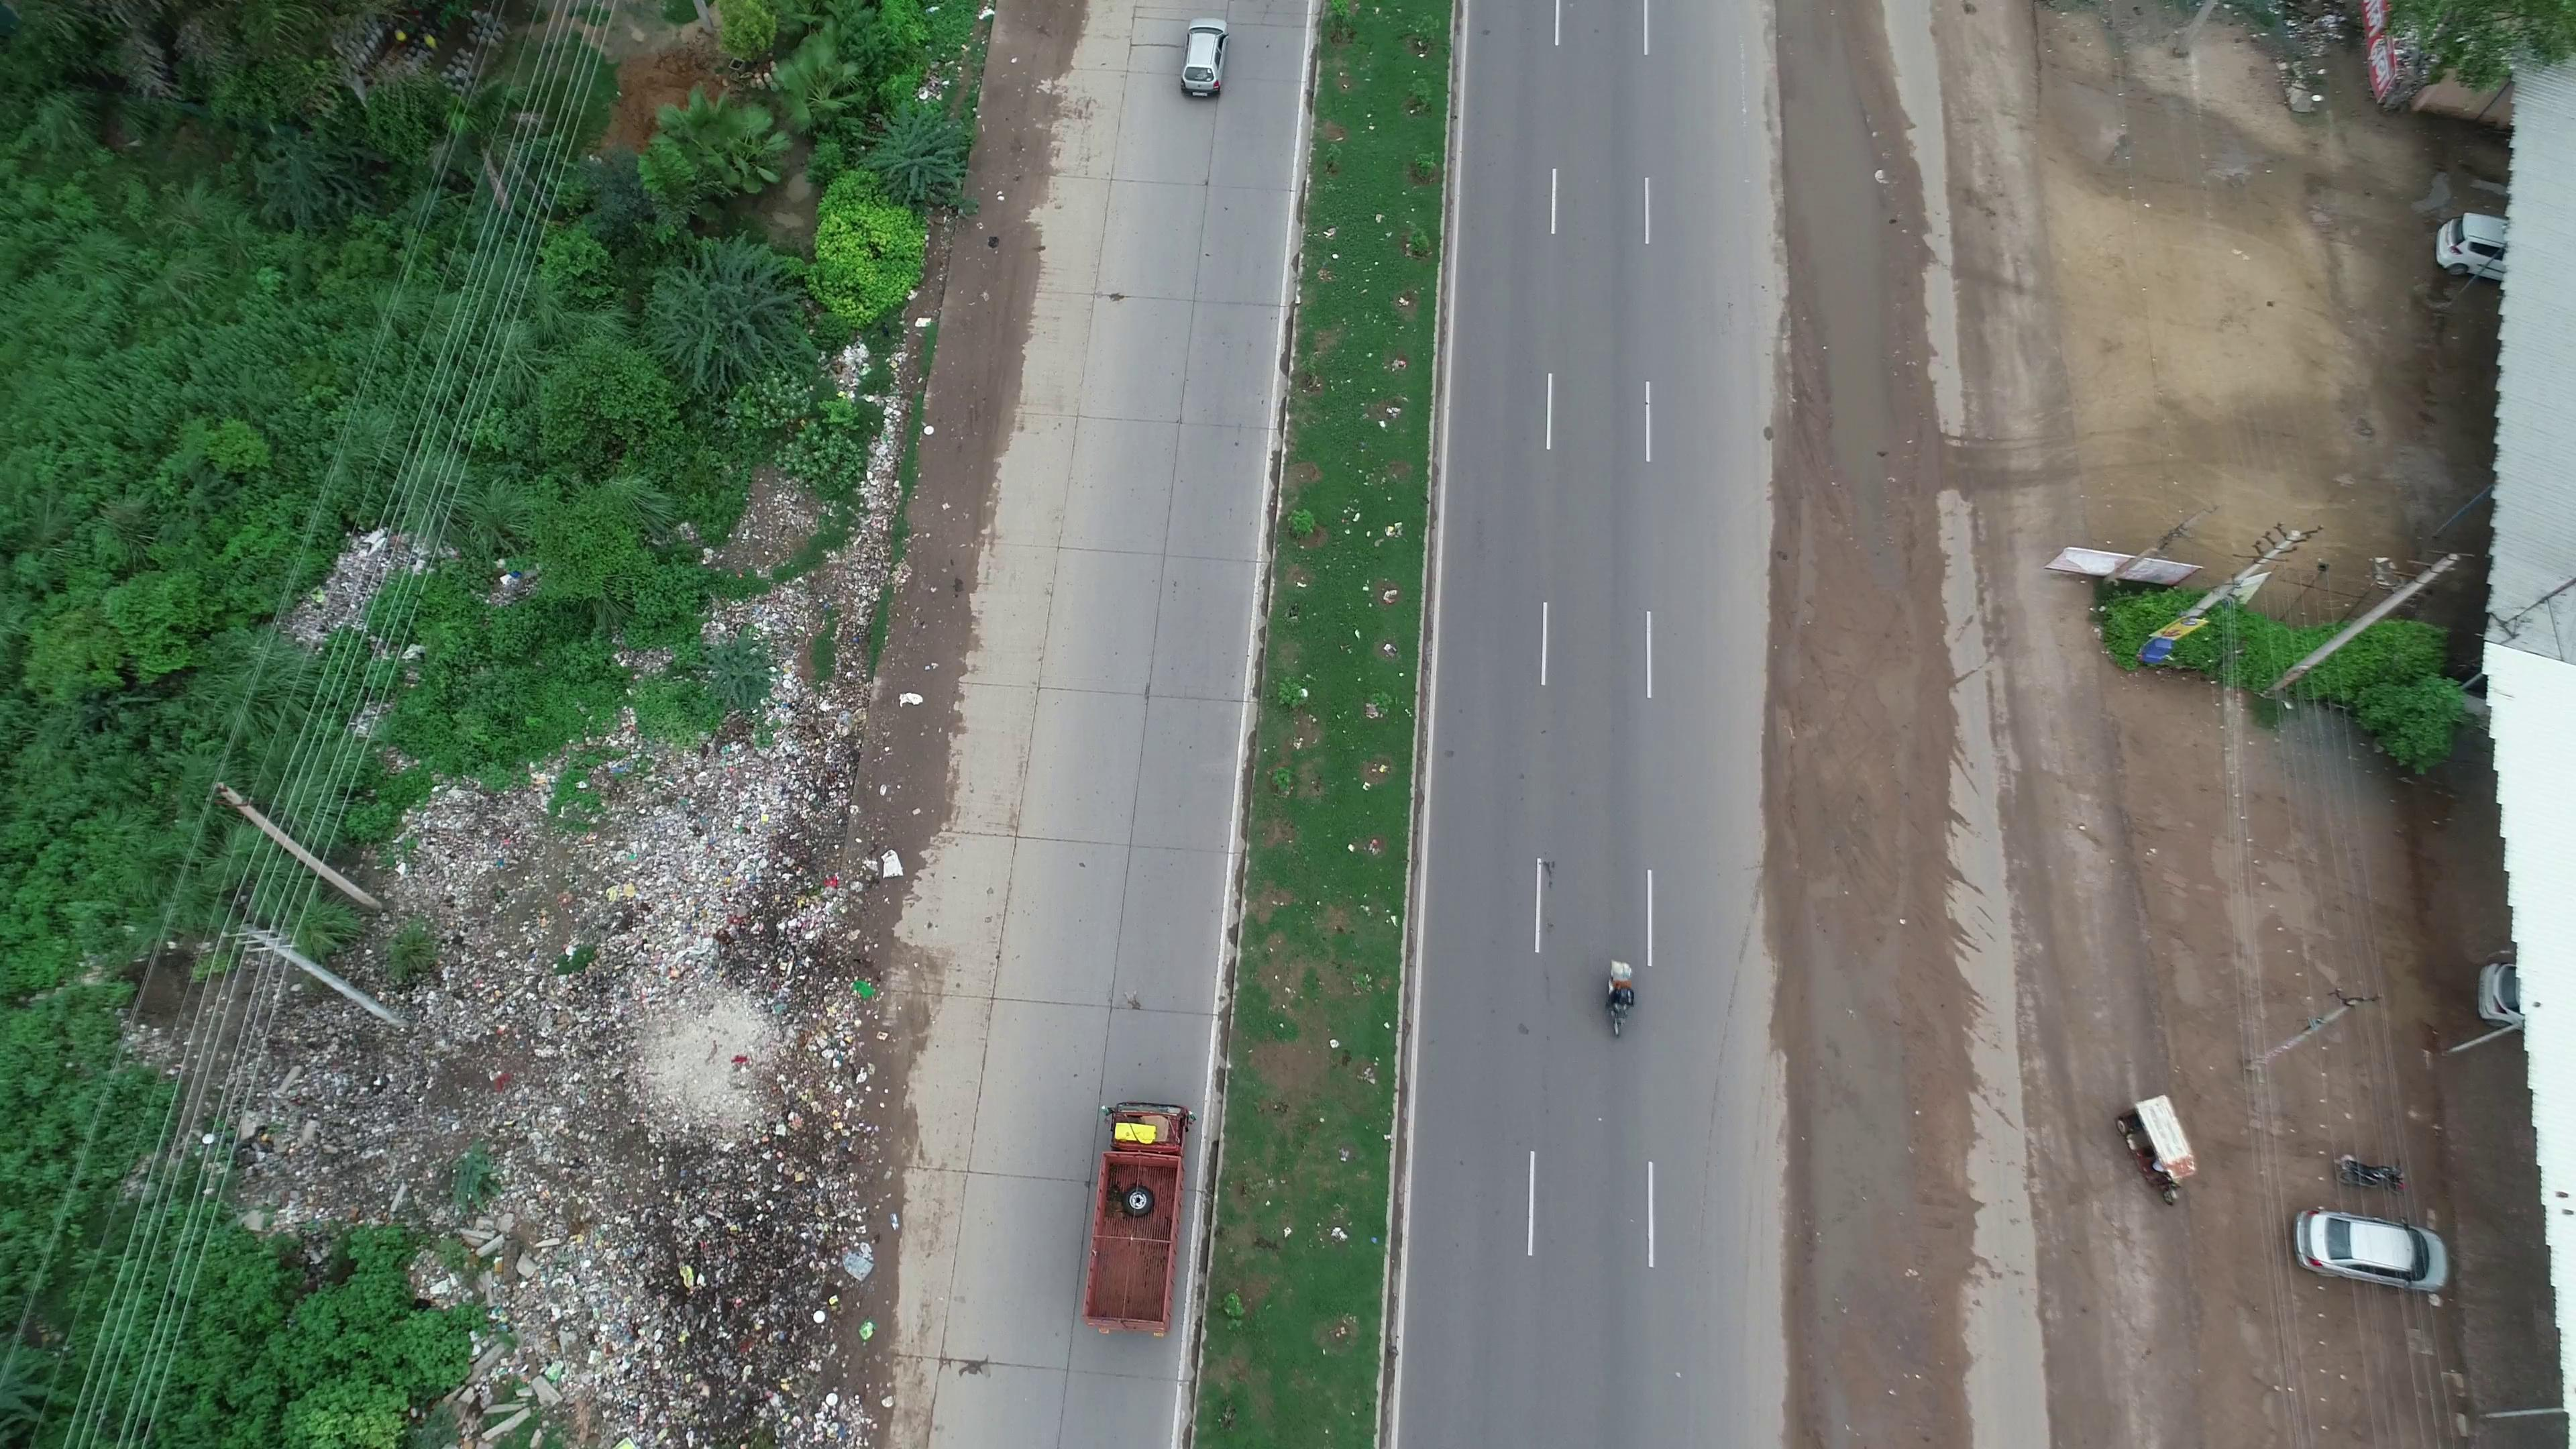Road_side_garbage: (603, 851, 812, 1169)
